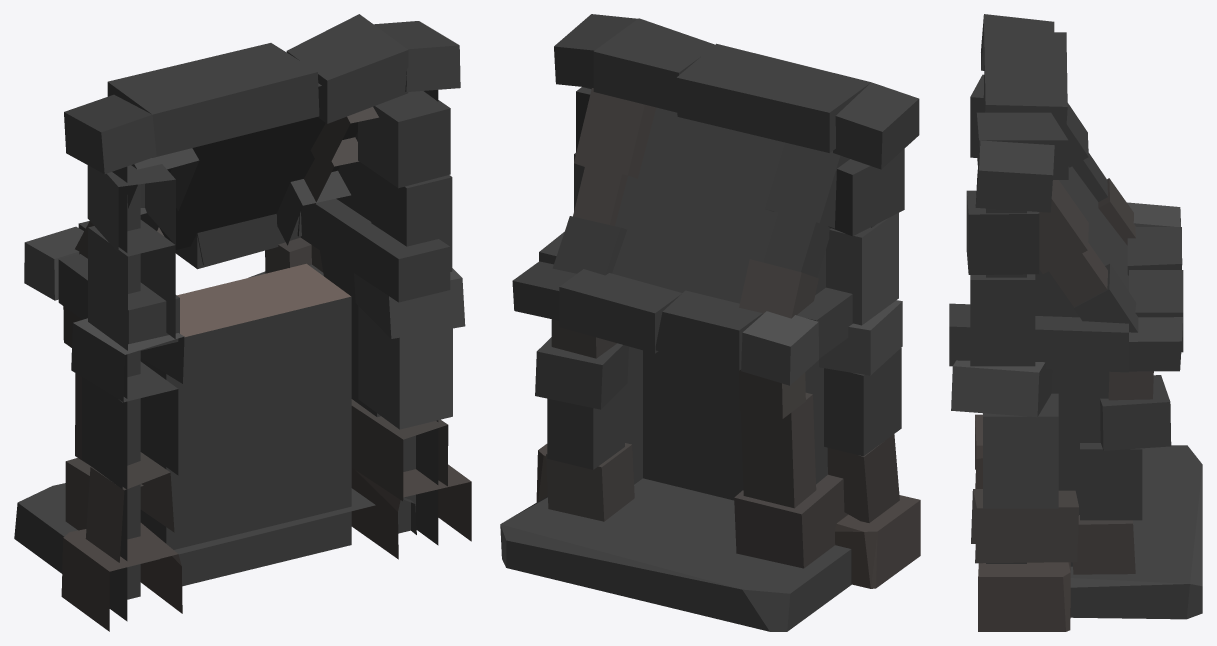
File: Fireplace.fbx
The picture shows the model from 3 angles, left to right: view 1: azimuth 30°, elevation 25°; view 2: azimuth 150°, elevation 25°; view 3: azimuth 270°, elevation 25°; orthographic projection. The views are drawn at different scales.
Visible parts, largest first — view 1: Fireplace; view 2: Fireplace; view 3: Fireplace.
Boxes of the visible parts, <box> form: Fireplace: <box>14,14,471,631</box>; Fireplace: <box>500,14,920,631</box>; Fireplace: <box>949,14,1202,631</box>.
Size of the model in its own units: 4.53 by 5.98 by 2.96.
